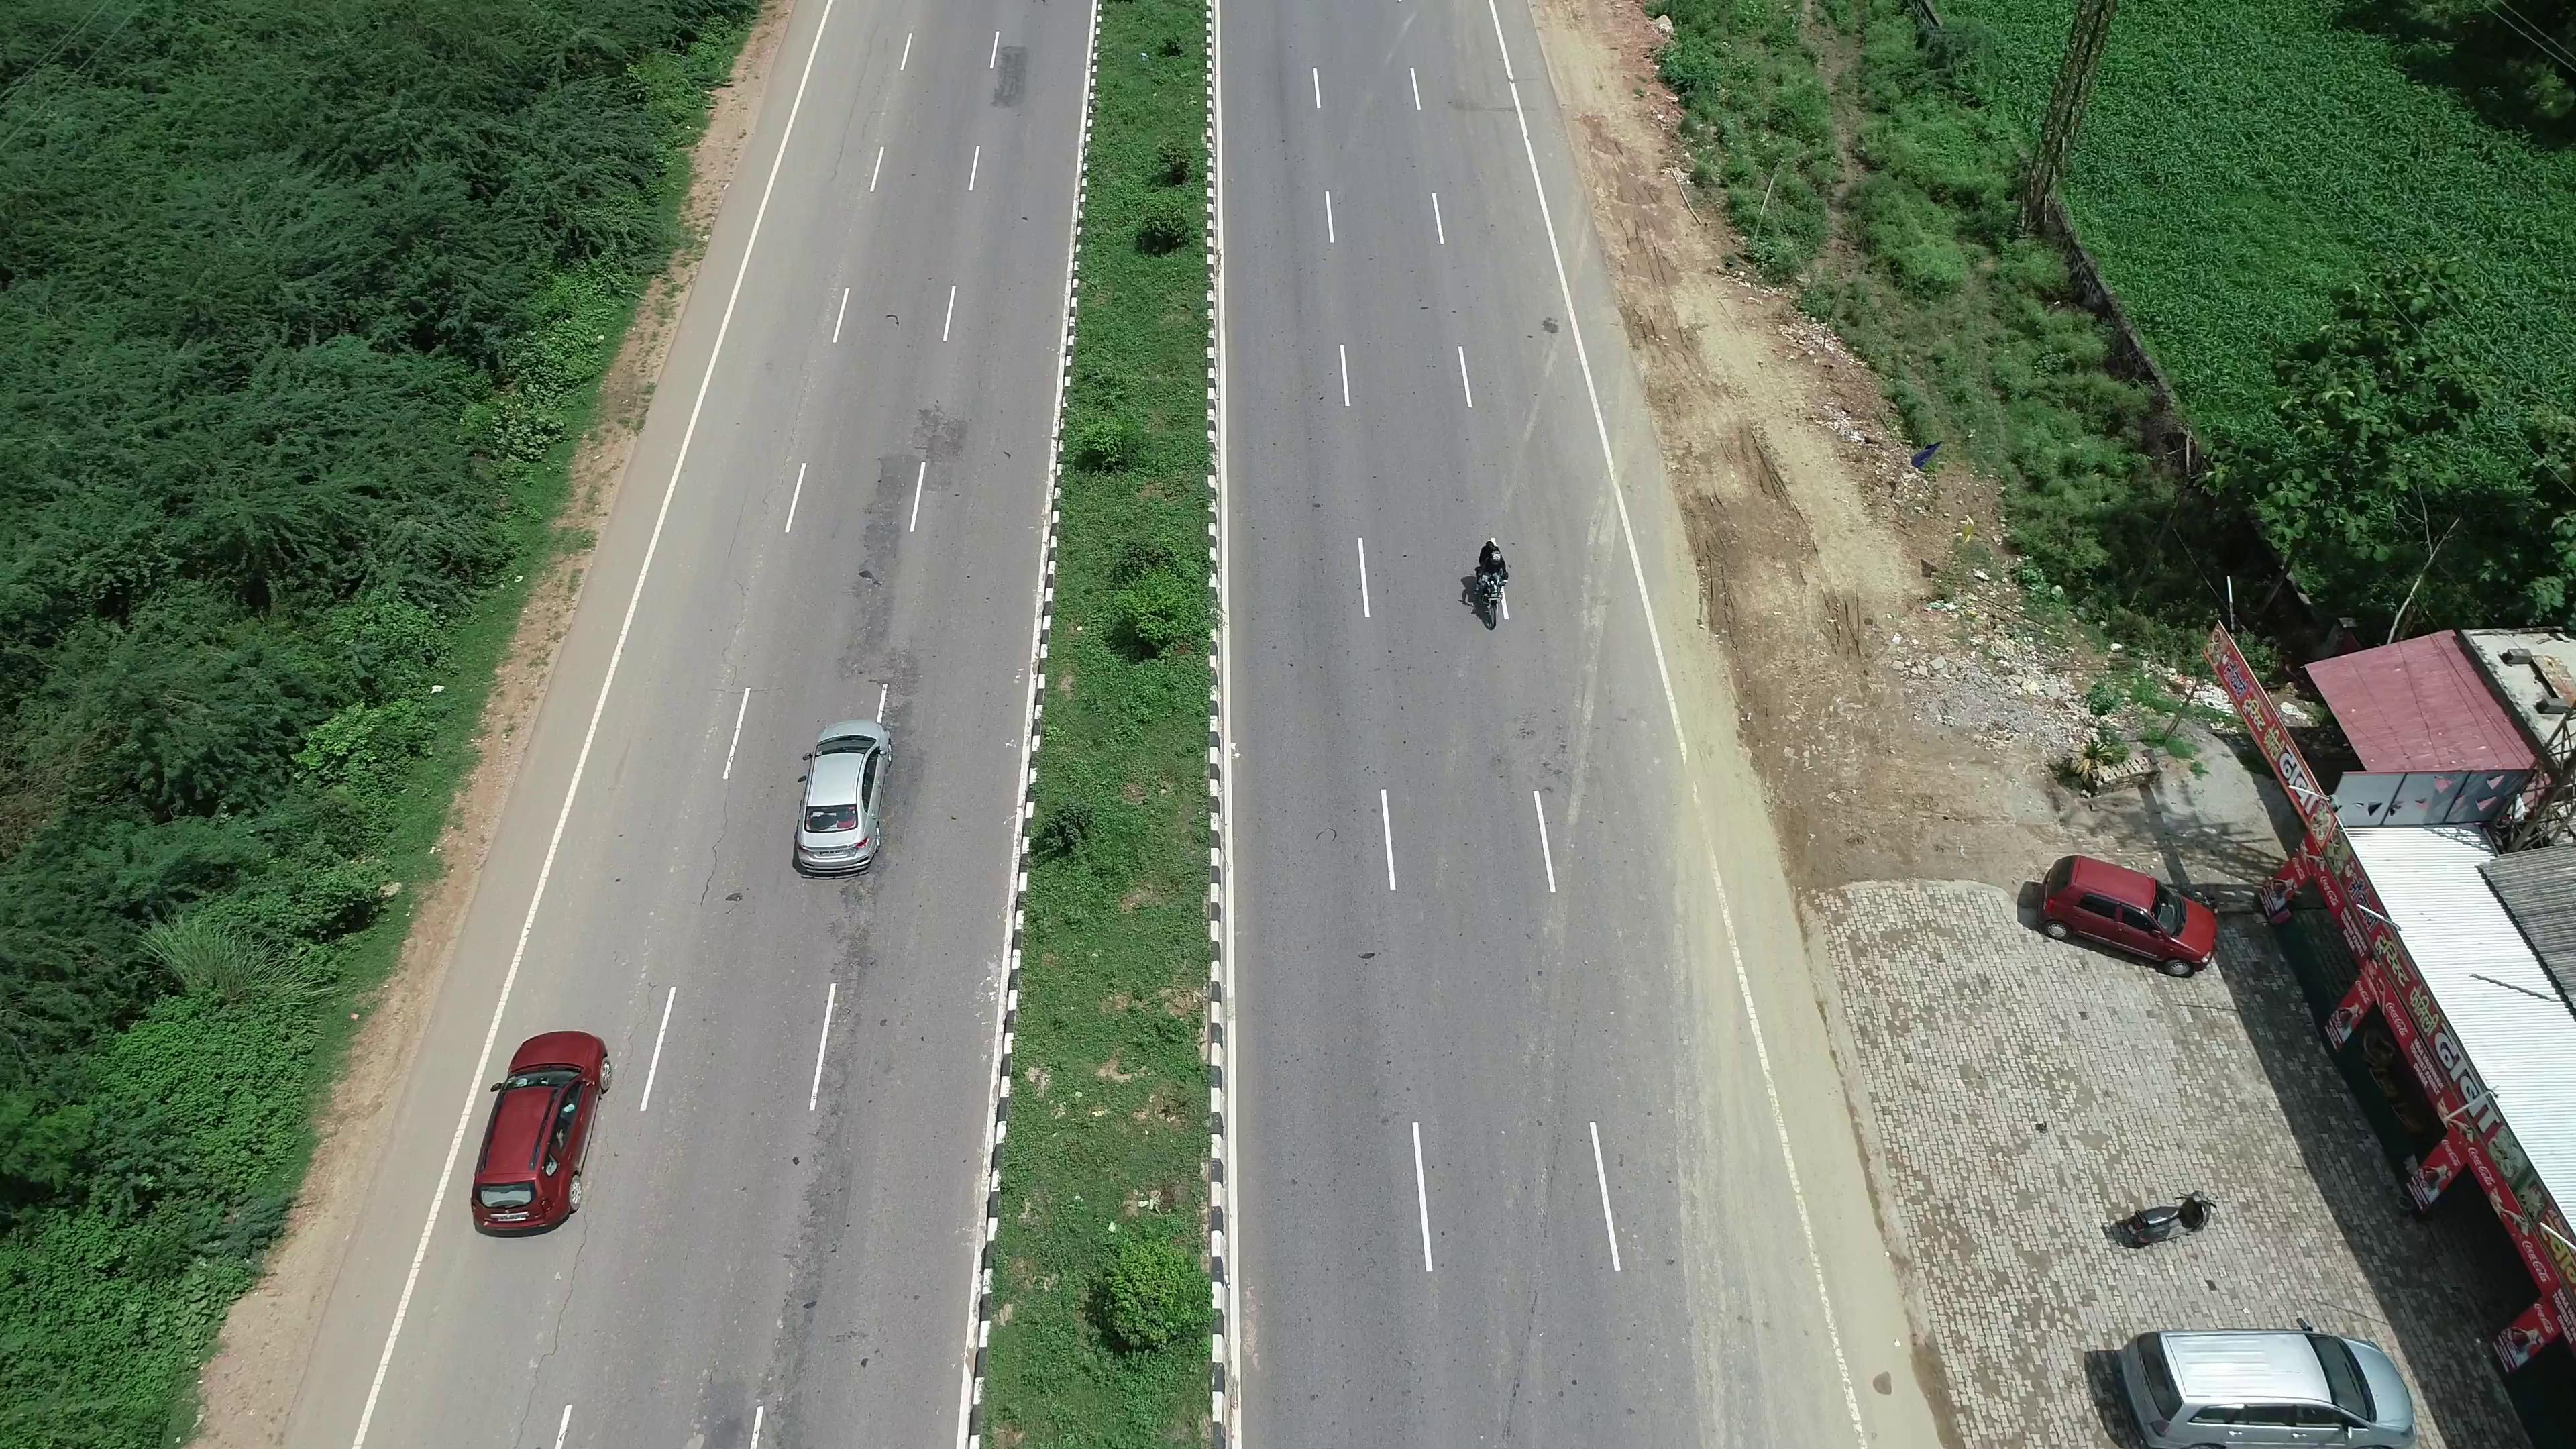Ravelling: (770, 1088, 851, 1361), (826, 881, 893, 1076)
